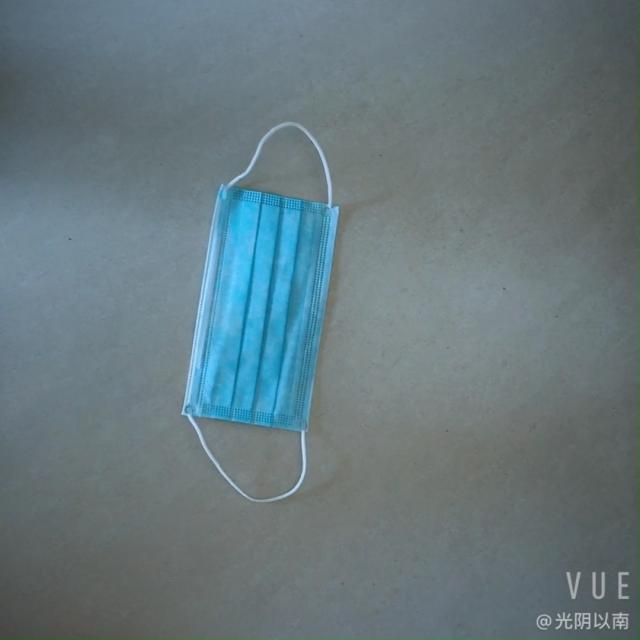face mask: (165, 168, 353, 443)
